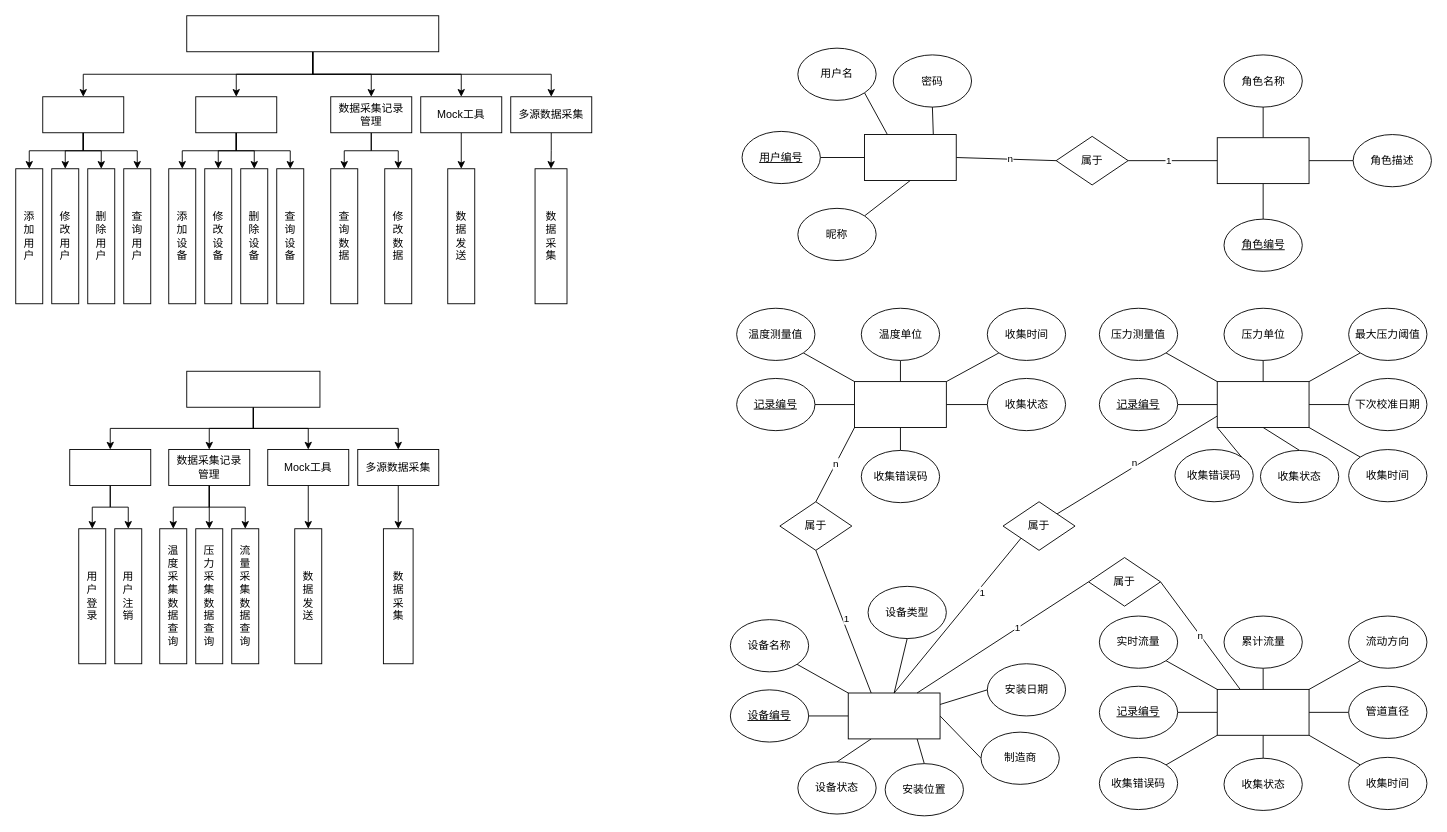
Image size: 1447x832. Some labels were removed from this diagram. The shapes that lost their labels are listed below. From the top down, each one's centre as x and y in pixels, then its label:
At (x=312, y=33): "管理员系统".
At (x=83, y=114): "用户管理".
At (x=236, y=114): "采集设备管理".
At (x=910, y=157): "用户".
At (x=1262, y=160): "角色".
At (x=253, y=388): "普通用户系统".
At (x=900, y=404): "温度采集数据记录".
At (x=1262, y=404): "压力采集数据记录".
At (x=110, y=467): "登录模块".
At (x=893, y=715): "采集设备".
At (x=1262, y=711): "流量采集数据记录".
